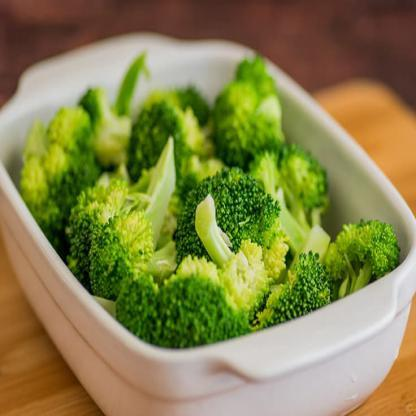broccoli: (11, 37, 401, 354)
